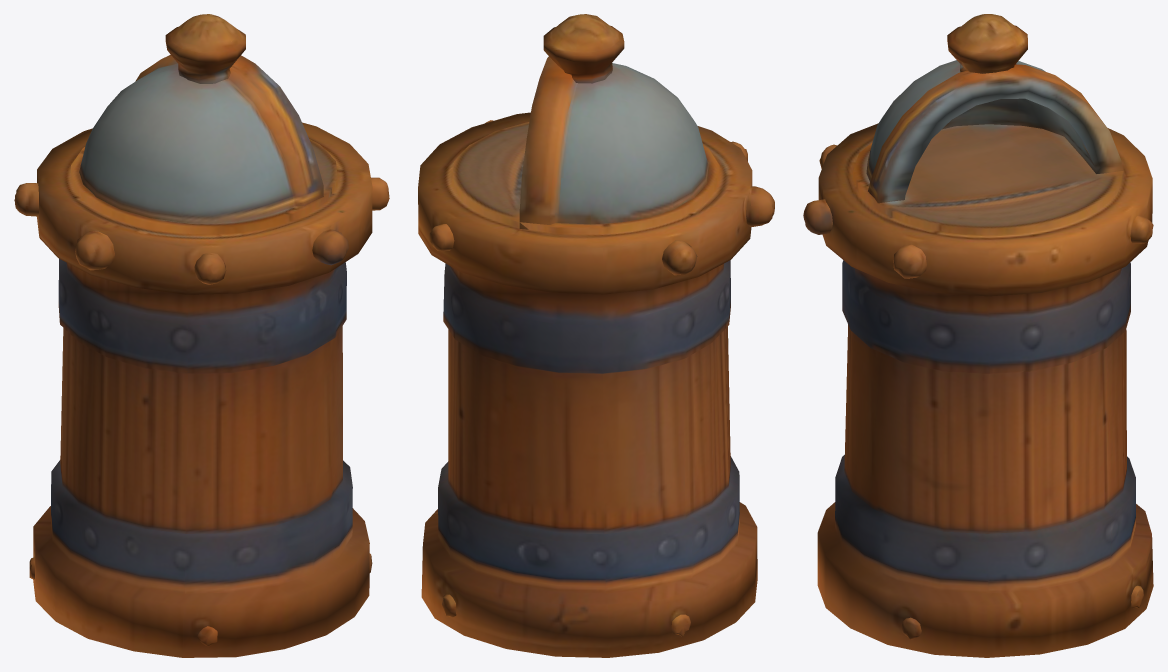
The model's file is binnacle.glb.
3 views of the same model, side by side, from view 1: azimuth 30°, elevation 25°; view 2: azimuth 150°, elevation 25°; view 3: azimuth 270°, elevation 25° (orthographic).
Visible parts, largest first — view 1: binnacle; view 2: binnacle; view 3: binnacle.
Part boxes in pixels (x1,y1,x2,y2): binnacle: [14, 14, 389, 657]; binnacle: [418, 14, 774, 657]; binnacle: [803, 14, 1153, 657].
Size of the model in its own units: 0.6115 by 1.1 by 0.6098.
Materials: 1 (1 with a texture image).
